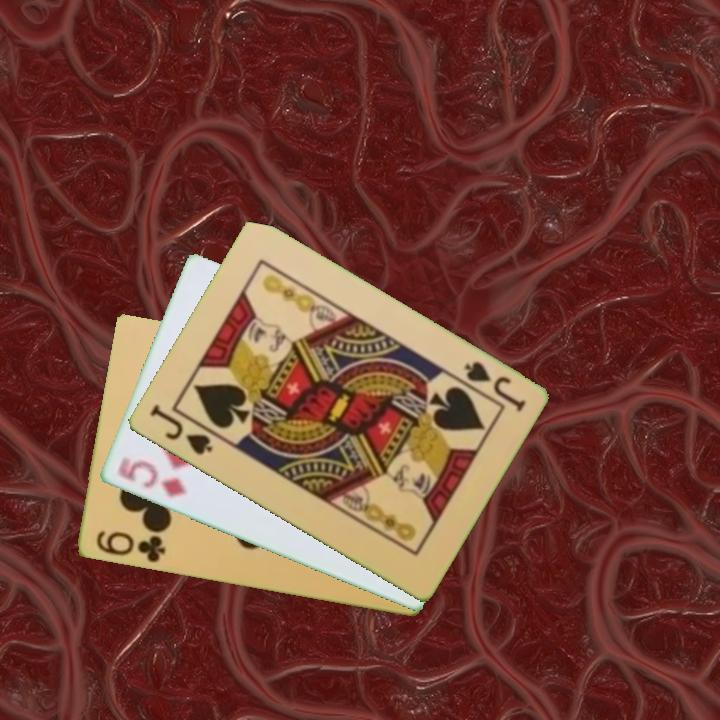5d: (113, 454, 189, 501)
6c: (92, 527, 168, 566)
Js: (145, 400, 216, 459), (460, 358, 528, 415)
